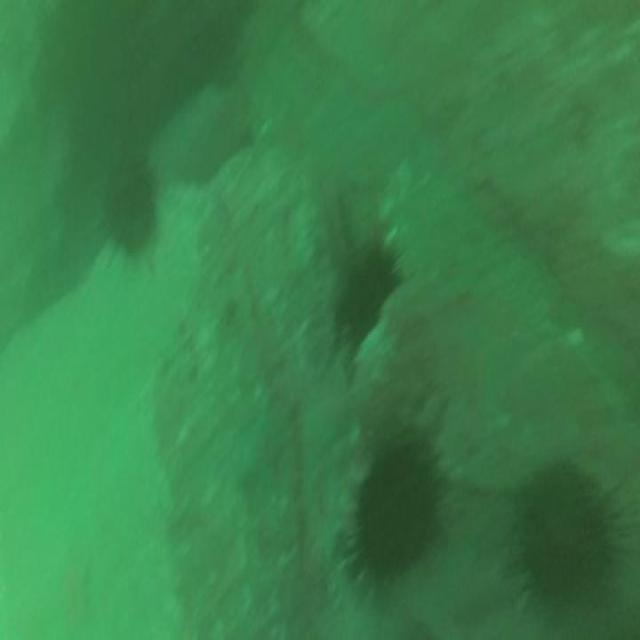echinus: (519, 468, 613, 605), (356, 446, 434, 574), (102, 168, 156, 259), (341, 248, 391, 334)
